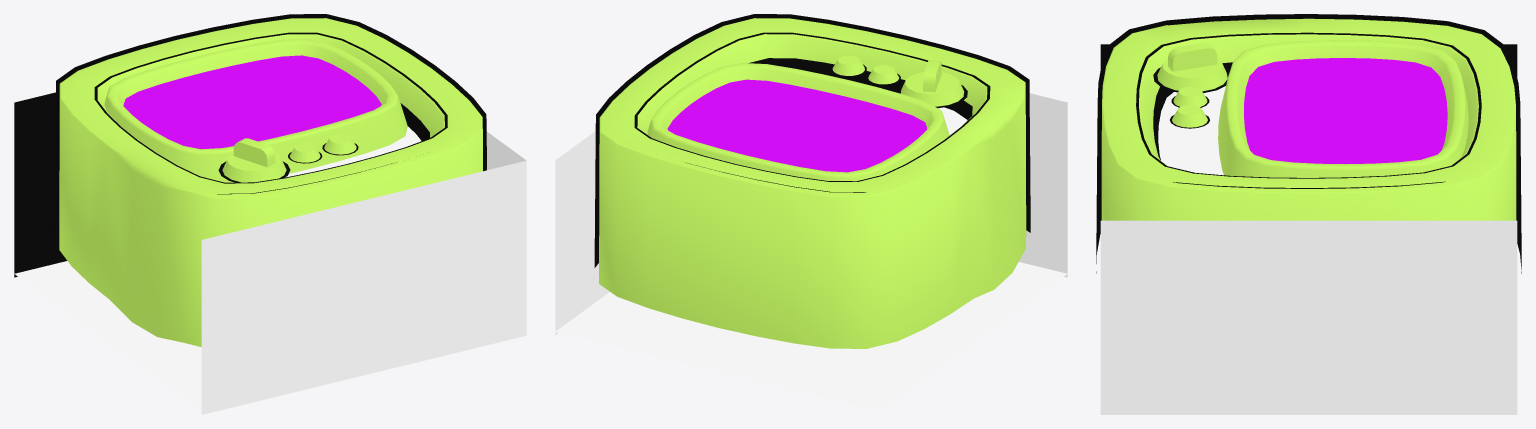
The picture shows the model from 3 angles, left to right: view 1: azimuth 30°, elevation 25°; view 2: azimuth 150°, elevation 25°; view 3: azimuth 270°, elevation 25°; orthographic projection. The views are drawn at different scales.
Parts seen in each view (by area): view 1: walls, bezel', screen, screen_bezel, container, knob, buttons, plate; view 2: bezel', container, screen, walls, screen_bezel, knob, buttons; view 3: walls, bezel', screen, screen_bezel, plate, knob, buttons.
Boxes of the visible parts, x1=… form: walls: x1=14, y1=92, x2=526, y2=414; bezel': x1=54, y1=14, x2=486, y2=346; screen: x1=123, y1=55, x2=381, y2=149; screen_bezel: x1=104, y1=38, x2=407, y2=182; container: x1=14, y1=261, x2=201, y2=410; knob: x1=218, y1=138, x2=290, y2=182; buttons: x1=288, y1=134, x2=358, y2=163; plate: x1=285, y1=126, x2=421, y2=177; bezel': x1=594, y1=14, x2=1030, y2=348; container: x1=555, y1=262, x2=1067, y2=410; screen: x1=667, y1=79, x2=927, y2=172; walls: x1=555, y1=93, x2=1067, y2=335; screen_bezel: x1=647, y1=63, x2=949, y2=181; knob: x1=897, y1=60, x2=967, y2=108; buttons: x1=830, y1=55, x2=900, y2=85; walls: x1=1100, y1=44, x2=1517, y2=414; bezel': x1=1096, y1=14, x2=1521, y2=273; screen: x1=1244, y1=58, x2=1447, y2=164; screen_bezel: x1=1218, y1=40, x2=1468, y2=177; plate: x1=1158, y1=86, x2=1225, y2=175; knob: x1=1153, y1=43, x2=1229, y2=92; buttons: x1=1170, y1=86, x2=1209, y2=128.
Bounding box in the file's own units: 9.95 × 6.25 × 9.96.
